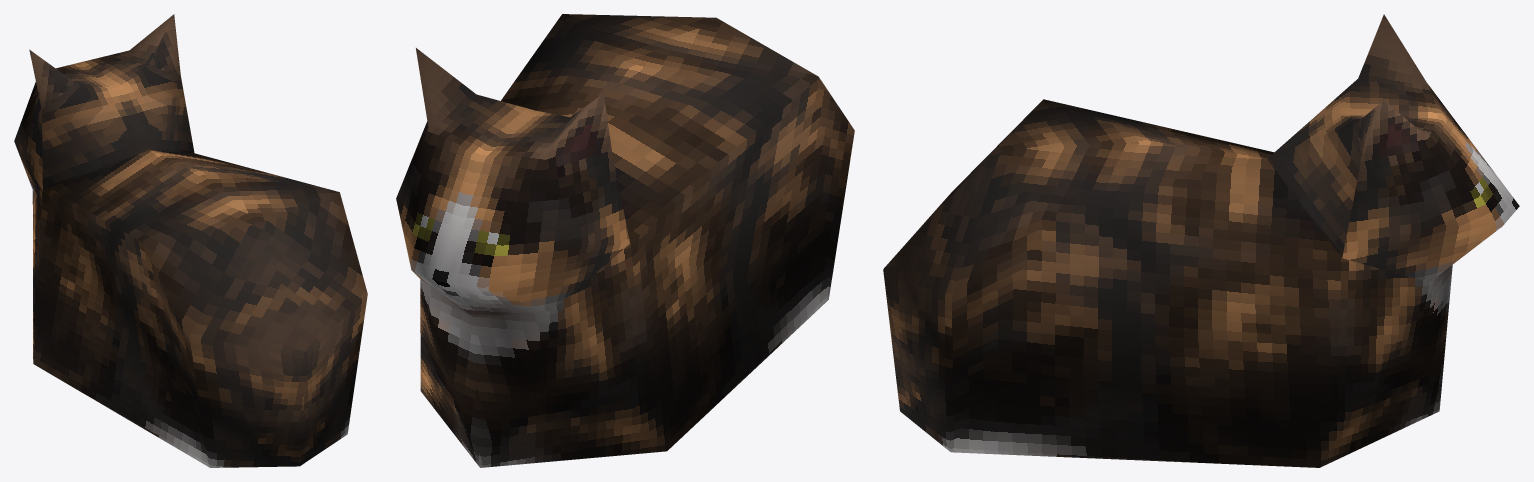
The model's file is CatLoafTurtoise64.glb.
3 views of the same model, side by side, from view 1: azimuth 30°, elevation 25°; view 2: azimuth 150°, elevation 25°; view 3: azimuth 270°, elevation 25° (orthographic). The views are drawn at different scales.
Visible parts, largest first — view 1: CatLoafTurtoise64; view 2: CatLoafTurtoise64; view 3: CatLoafTurtoise64.
Boxes of the visible parts, box(x1,y1,x2,y2) form: CatLoafTurtoise64: box(14, 14, 367, 467); CatLoafTurtoise64: box(396, 14, 854, 467); CatLoafTurtoise64: box(883, 14, 1519, 467).
Bounding box in the file's own units: 0.1732 × 0.2427 × 0.3954.
1 material, 1 textured.
